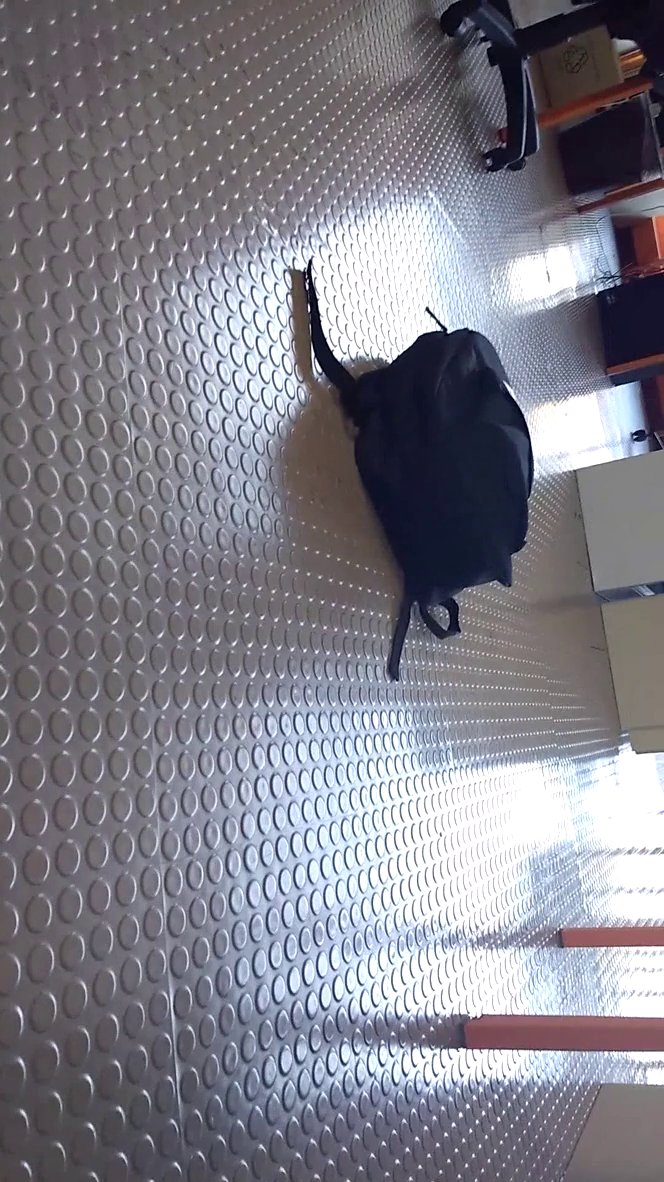bag: (286, 248, 541, 687)
box: (519, 20, 636, 107)
